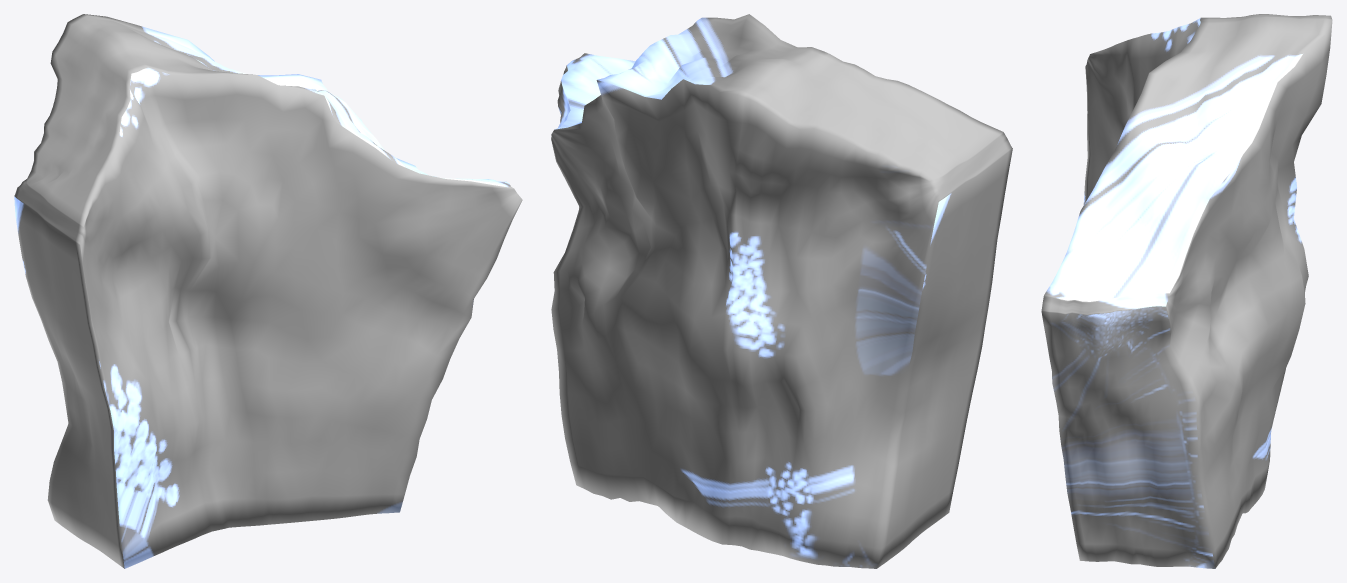
Rendered from SM_Rock_04.fbx.
3 renders of one model, left to right at view 1: azimuth 30°, elevation 25°; view 2: azimuth 150°, elevation 25°; view 3: azimuth 270°, elevation 25°, orthographic. The views are drawn at different scales.
Visible parts, largest first — view 1: SM_Rock_04; view 2: SM_Rock_04; view 3: SM_Rock_04.
Part boxes in pixels (bbox=[...]): SM_Rock_04: bbox=[14, 14, 522, 568]; SM_Rock_04: bbox=[551, 14, 1012, 568]; SM_Rock_04: bbox=[1041, 14, 1332, 568].
Bounding box in the file's own units: 254 × 152 × 265.
